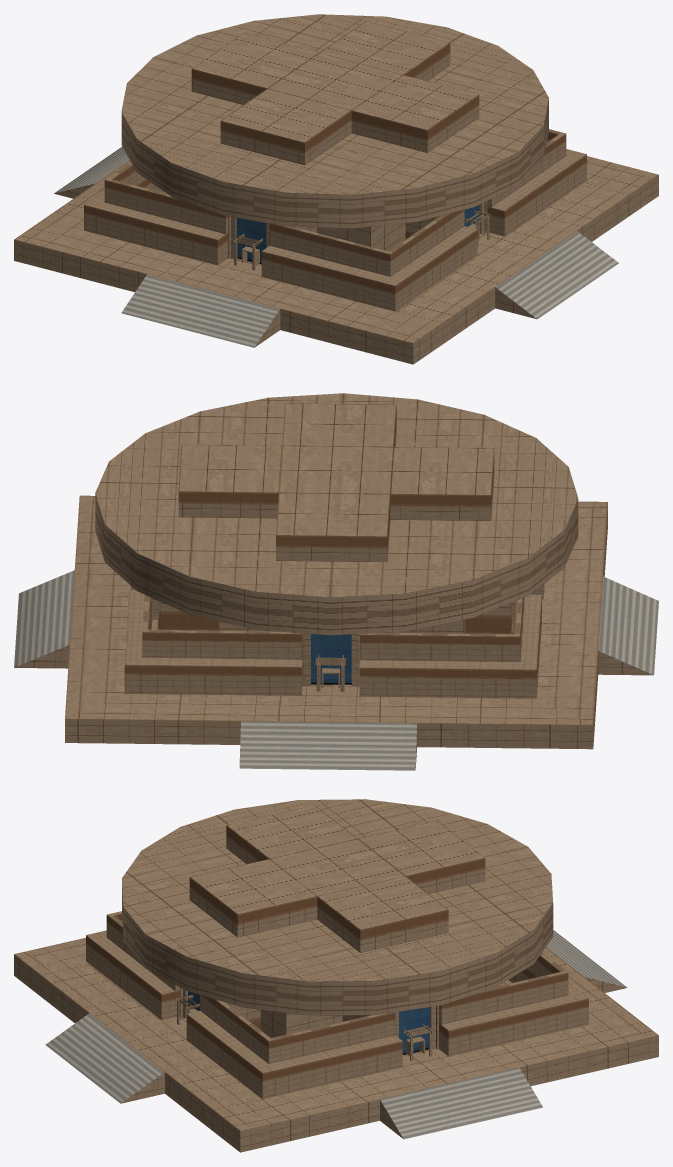
Rendered from China_track_landmark_02.dae.
The picture shows the model from 3 angles, top to bottom: view 1: azimuth 30°, elevation 25°; view 2: azimuth 150°, elevation 25°; view 3: azimuth 270°, elevation 25°; orthographic projection. The views are drawn at different scales.
Visible parts, largest first — view 1: China_track_landmark_02; view 2: China_track_landmark_02; view 3: China_track_landmark_02.
Boxes of the visible parts, x1,y1,x2,y2 form: China_track_landmark_02: (14,14,658,364); China_track_landmark_02: (14,393,658,770); China_track_landmark_02: (14,799,658,1152).
Bounding box in the file's own units: 6.65 × 6.65 × 1.69.
Materials: 3 (3 with a texture image).
